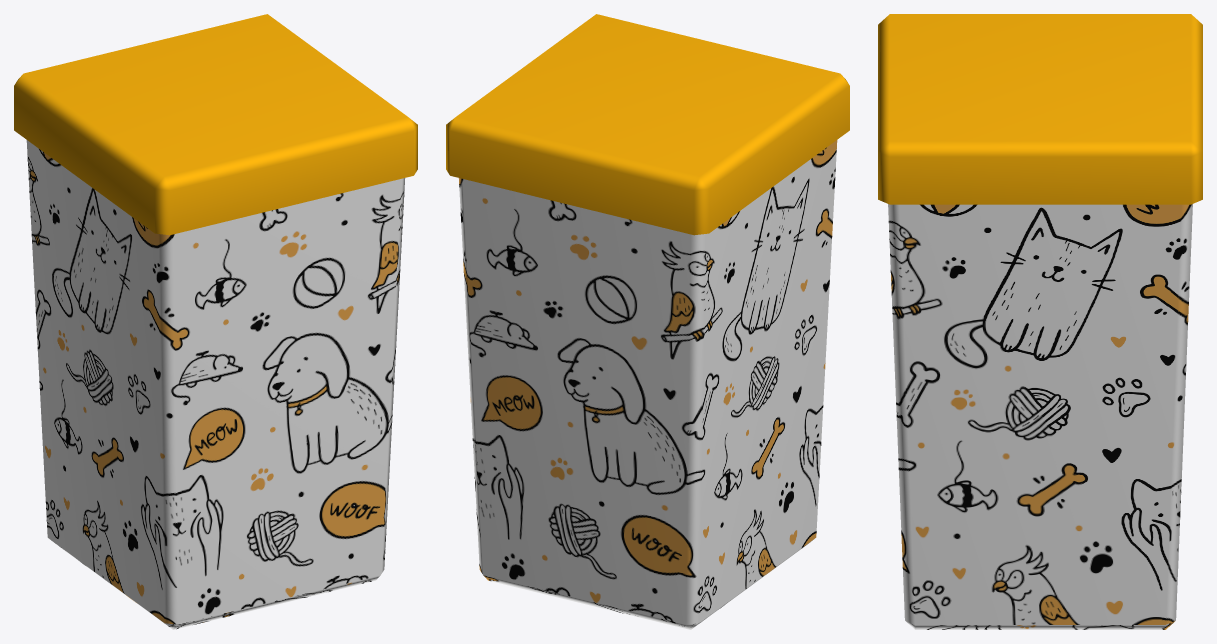
The model's file is giftbox_062.fbx.
3 renders of one model, left to right at view 1: azimuth 30°, elevation 25°; view 2: azimuth 150°, elevation 25°; view 3: azimuth 270°, elevation 25°, orthographic. The views are drawn at different scales.
Visible parts, largest first — view 1: giftbox_062; view 2: giftbox_062; view 3: giftbox_062.
Boxes of the visible parts, x1,y1,x2,y2 form: giftbox_062: (14, 14, 417, 629); giftbox_062: (446, 14, 849, 629); giftbox_062: (878, 14, 1202, 629).
Bounding box in the file's own units: 217 × 217 × 367.
